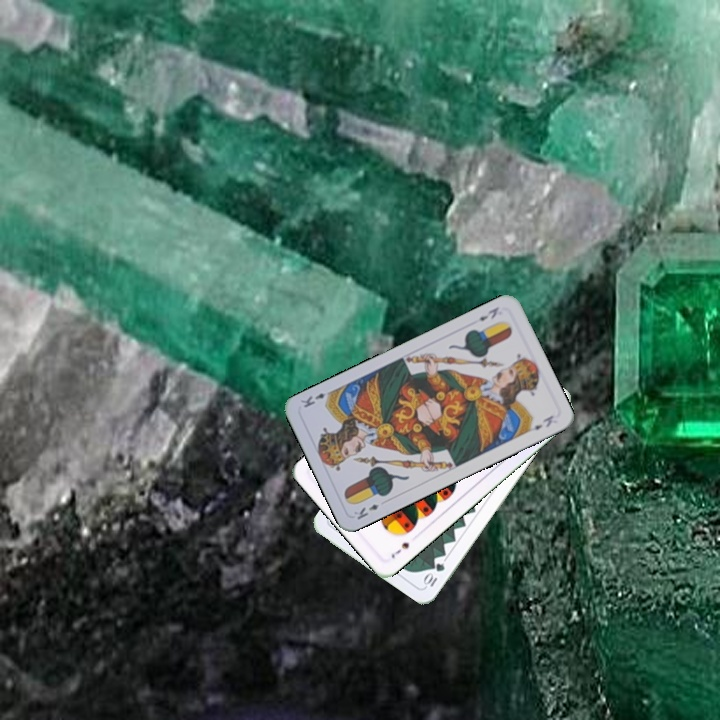EK: (350, 500, 382, 522), (475, 303, 501, 323)
G10: (420, 559, 448, 590)
S7: (387, 538, 412, 561)
